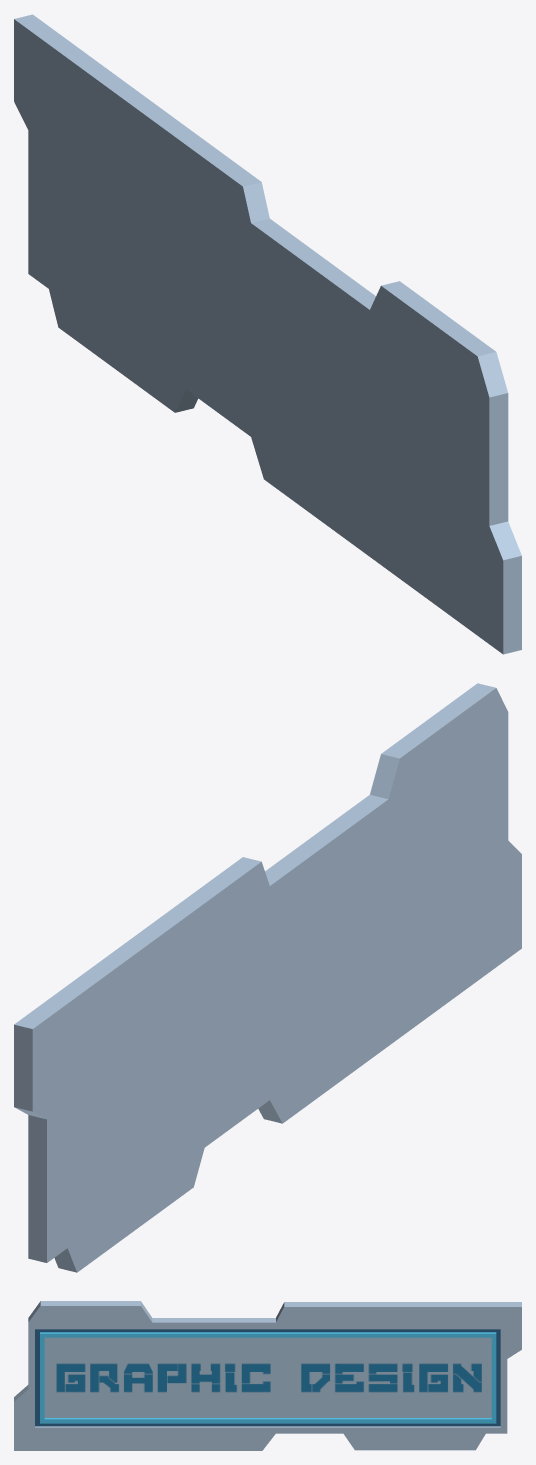
The model's file is titlu-gd.glb.
3 renders of one model, top to bottom at view 1: azimuth 30°, elevation 25°; view 2: azimuth 150°, elevation 25°; view 3: azimuth 270°, elevation 25°, orthographic. The views are drawn at different scales.
Visible parts, largest first — view 1: holograma; view 2: holograma; view 3: textbox, holograma, rama_interioara, rama_interioara.001.
Part boxes in pixels (box(x1,y1,x2,y2)): holograma: box(14, 14, 521, 654); holograma: box(14, 683, 521, 1272); textbox: box(44, 1337, 491, 1417); holograma: box(14, 1301, 521, 1450); rama_interioara: box(40, 1332, 496, 1423); rama_interioara.001: box(35, 1329, 500, 1426).
Size of the model in its own units: 0.1215 by 1.73 by 5.48.
Materials: 4 (1 with a texture image).
